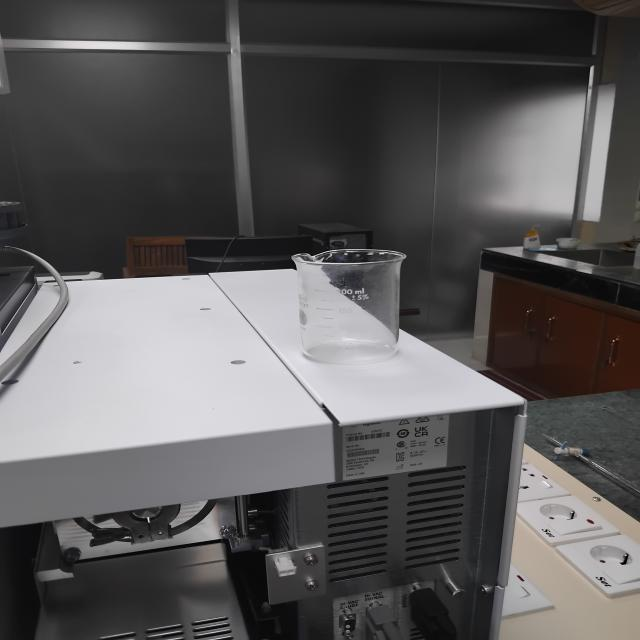Beaker: (267, 218, 439, 378)
